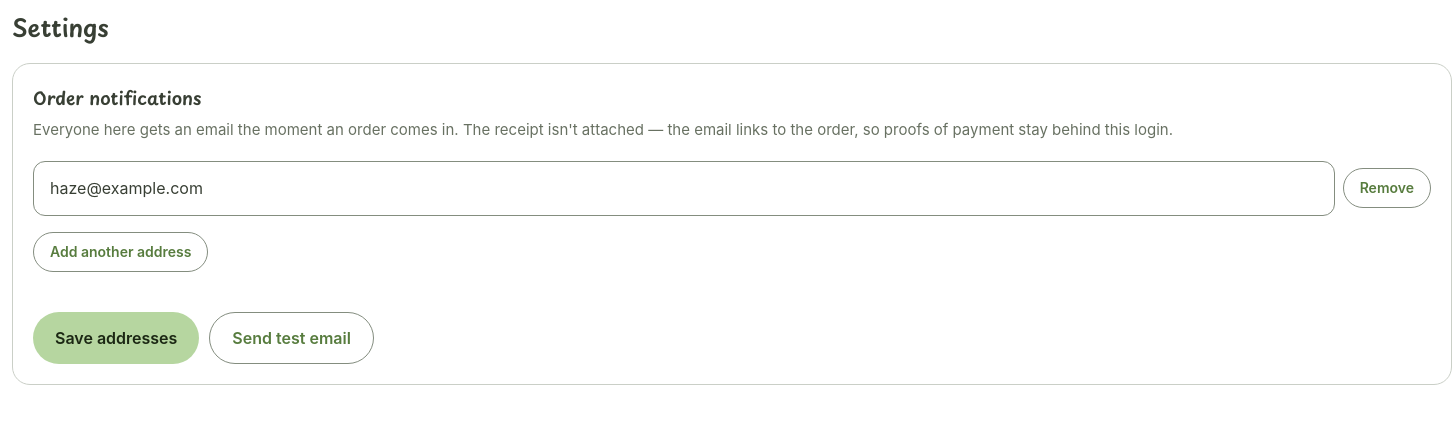
Test: the test email › reports who it reached
Expected: the field showing "haze@example.com" is shown, x1=33 y1=161 x2=1335 y2=216
Click the button "Send test email".
click(292, 338)  # box x1=209 y1=312 x2=374 y2=364
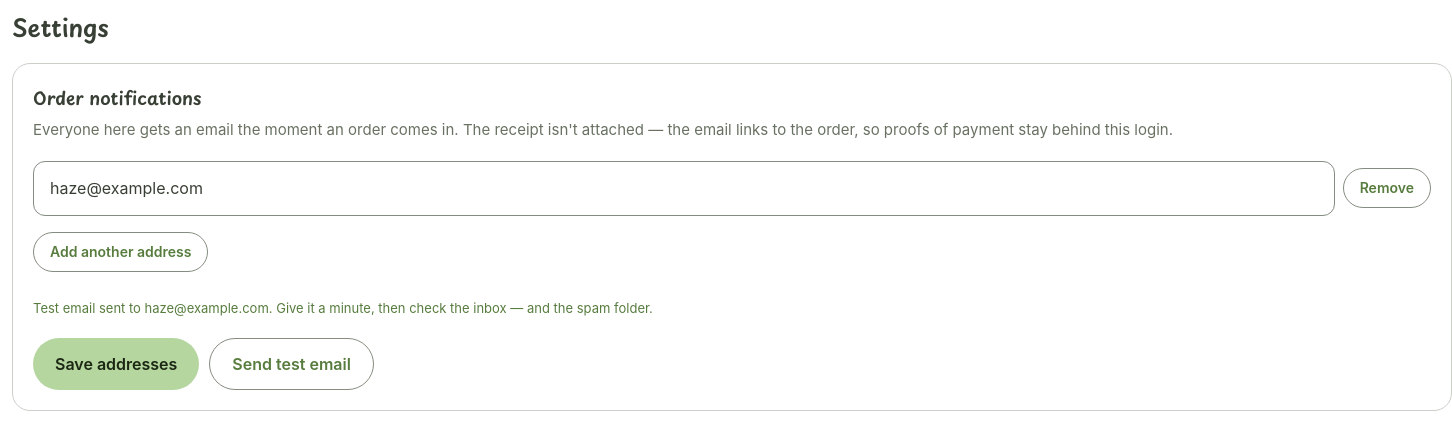
Expected: the text "haze@example.com" is shown, x1=33 y1=300 x2=653 y2=316
